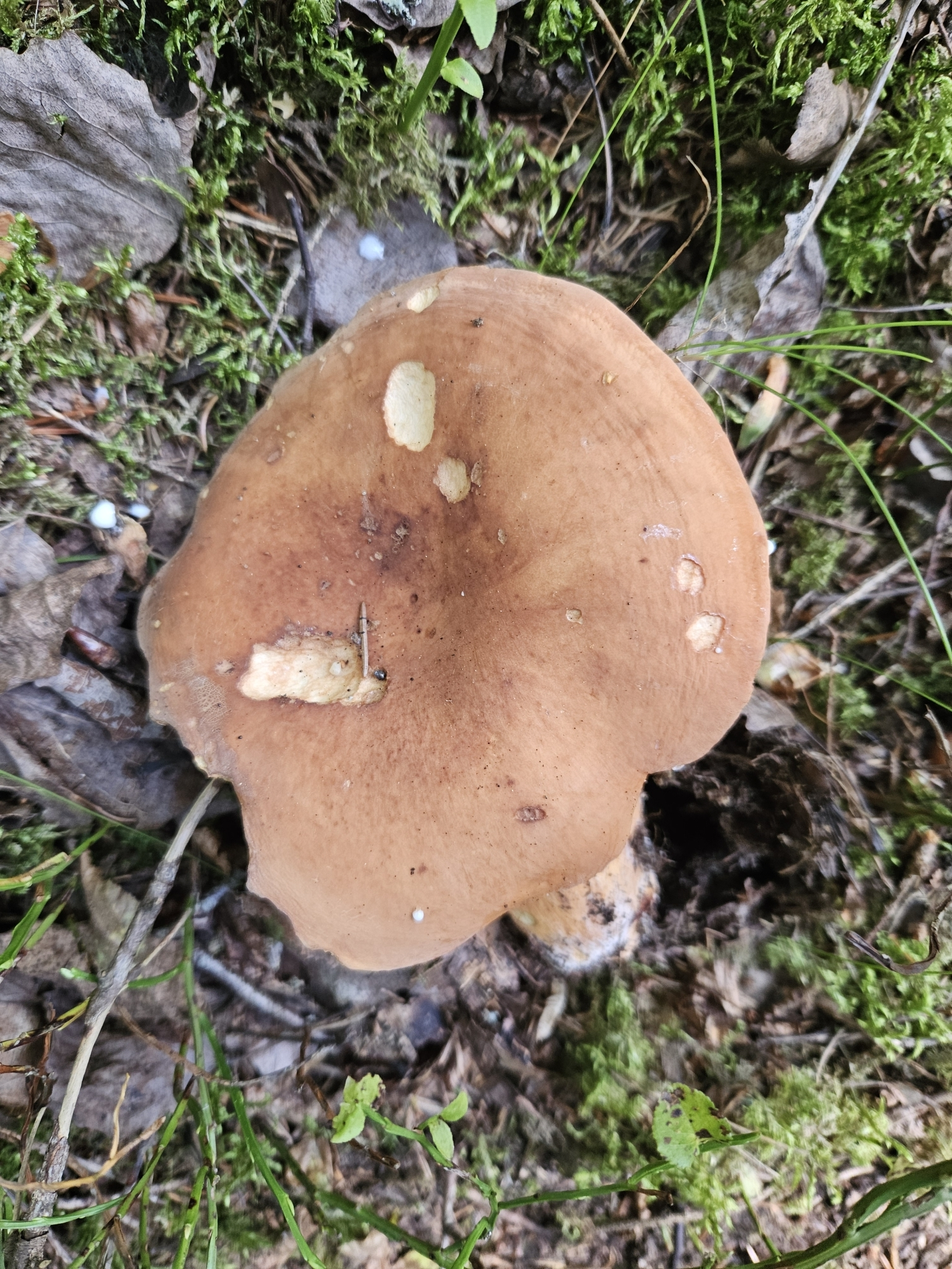cap: (138, 267, 769, 968)
stem: (509, 843, 658, 975)
